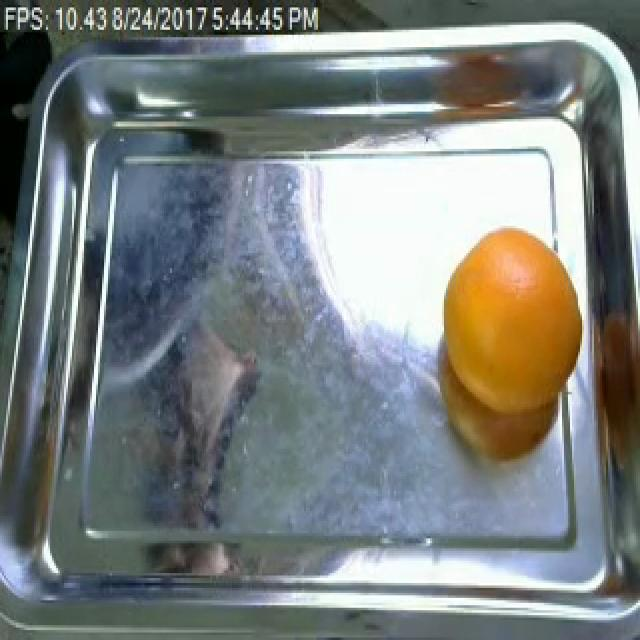Fruit: (434, 218, 590, 466)
